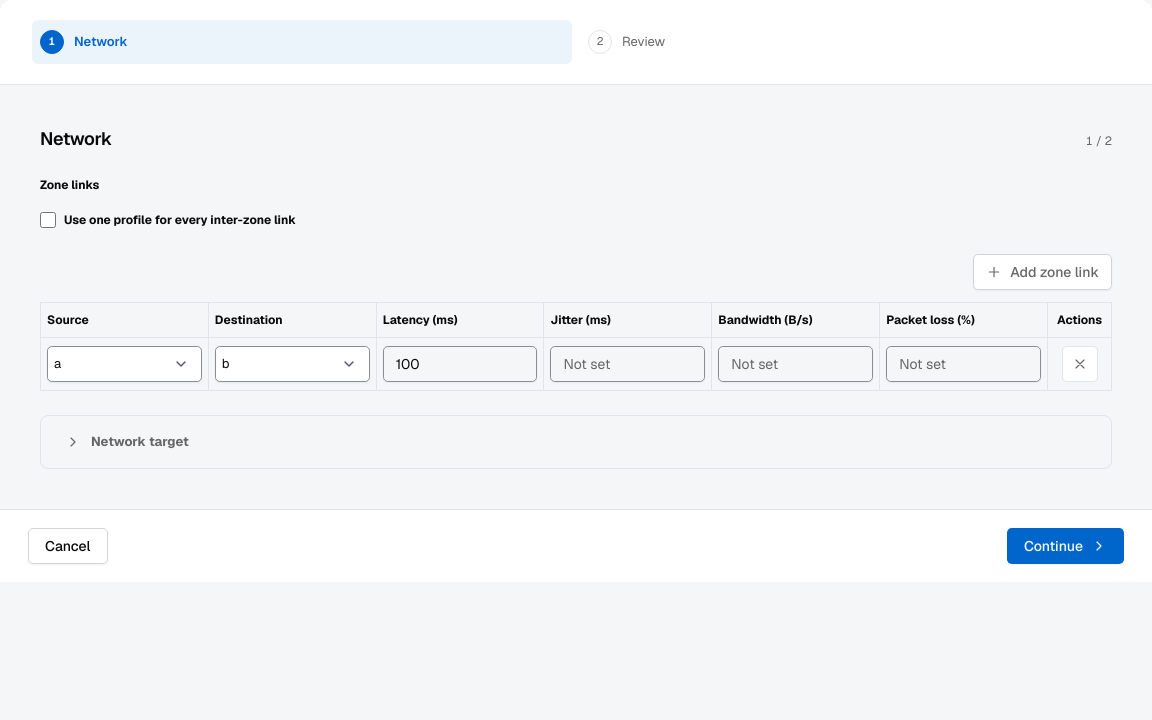
Scenario: reviews directed zone links without inactive shared defaults or duplicate fields
The image size is (1152, 720).
Click the button "Continue" at (1065, 546), box [1007,528,1124,564]
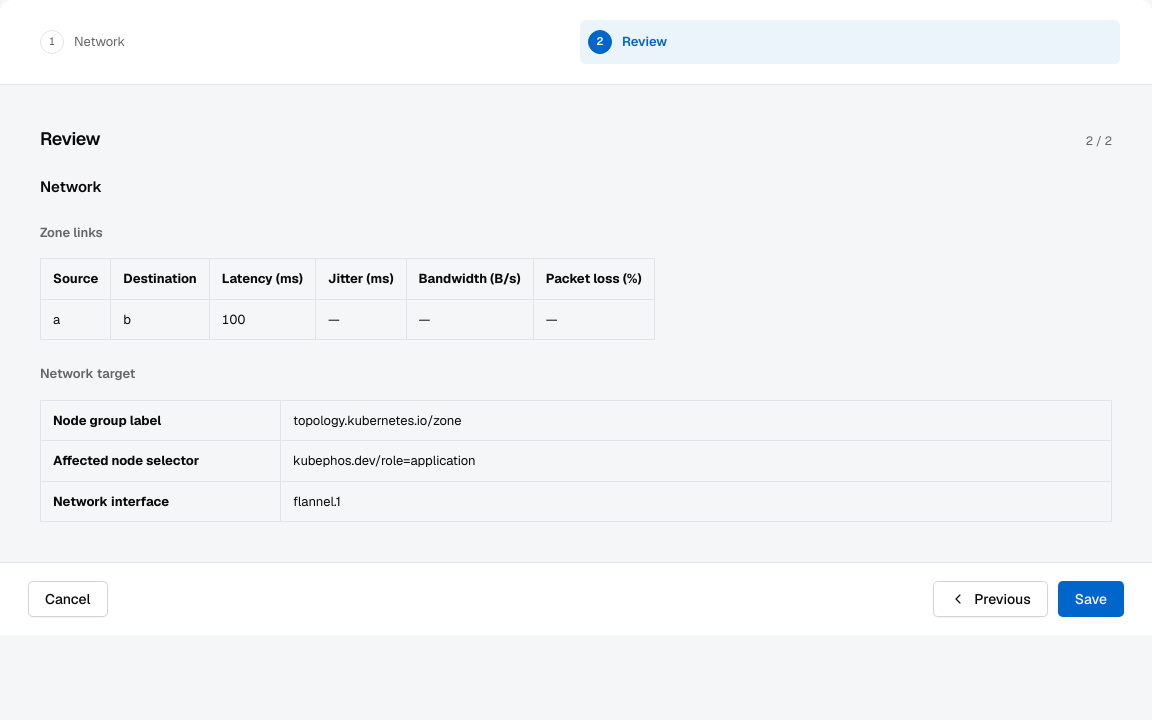
expect the row "a b 100 — — —" is shown: met, box [40,299,654,340]
